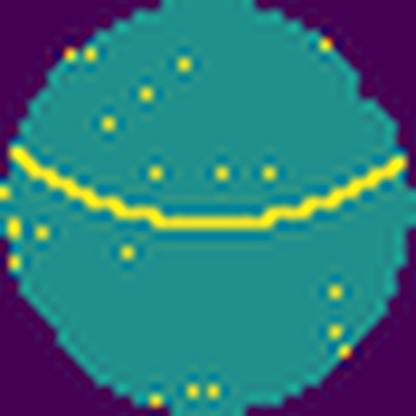Scratch: (6, 142, 408, 234)
